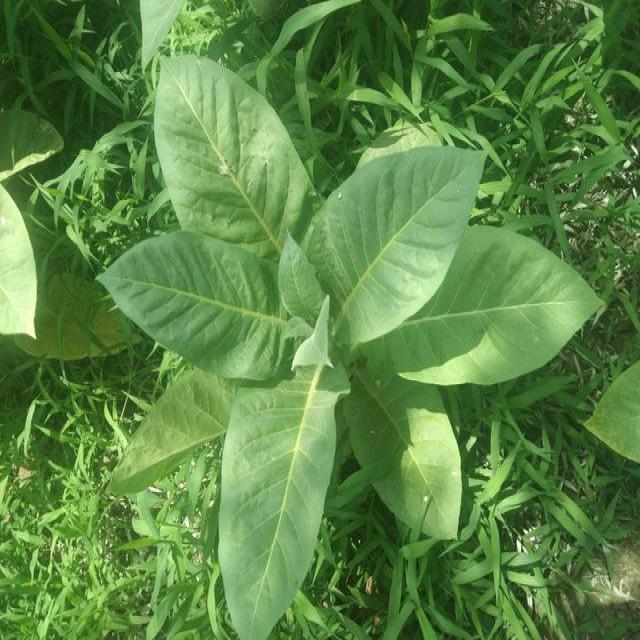crop: (99, 55, 600, 626), (0, 93, 47, 351), (584, 356, 638, 466)
